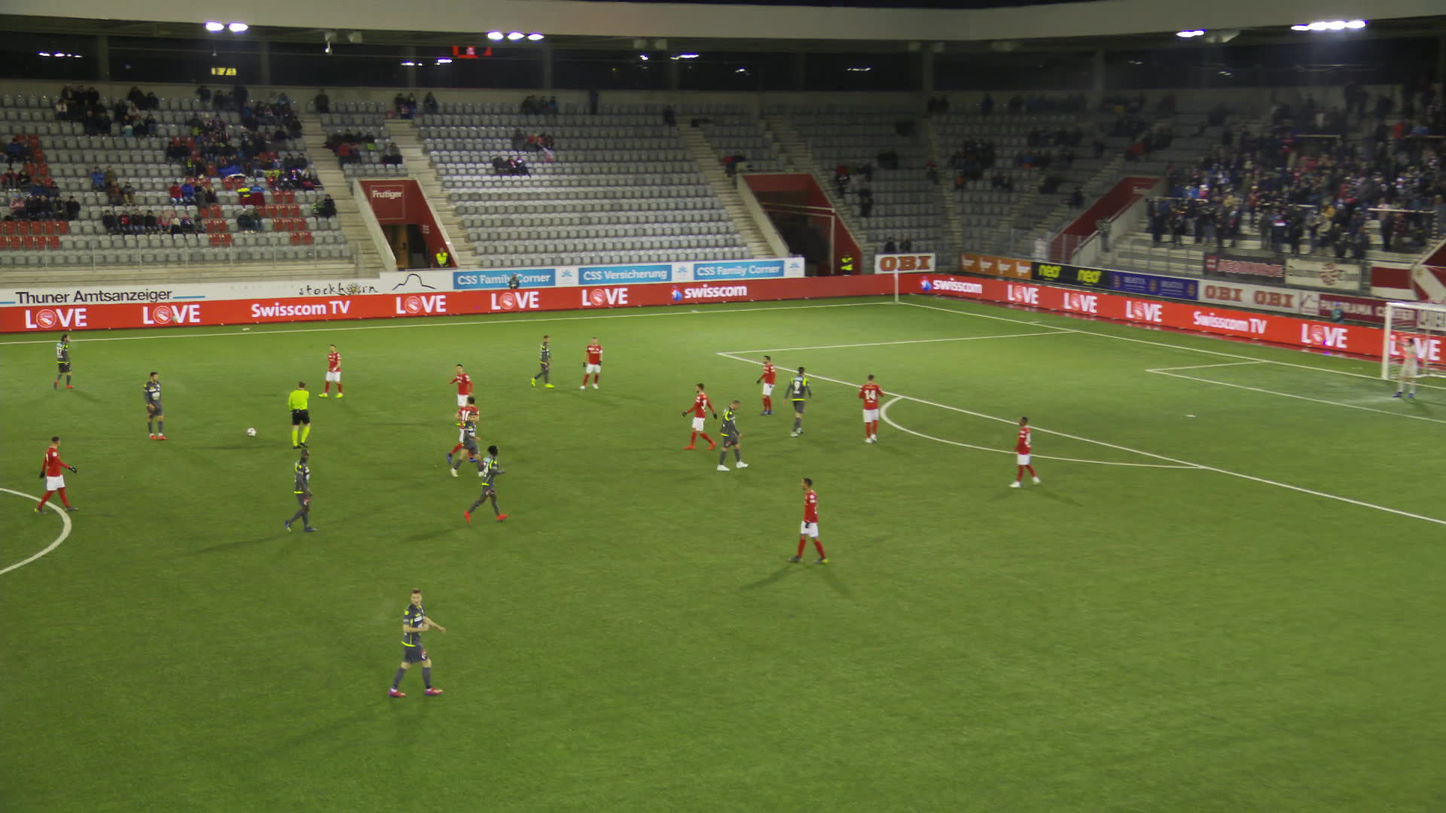ball: (249, 427, 258, 436)
player: (395, 589, 445, 697), (790, 477, 830, 565), (38, 436, 79, 513), (466, 445, 506, 523), (284, 450, 319, 534), (685, 382, 717, 450), (1012, 416, 1042, 487), (448, 396, 479, 463), (786, 366, 813, 437), (718, 400, 744, 470), (860, 374, 885, 444), (453, 411, 479, 477), (1393, 337, 1421, 397), (145, 371, 167, 439), (53, 334, 77, 390), (319, 345, 344, 397), (532, 335, 557, 387), (758, 355, 779, 416), (447, 364, 476, 407), (581, 336, 604, 389)
referee: (288, 381, 312, 447)
